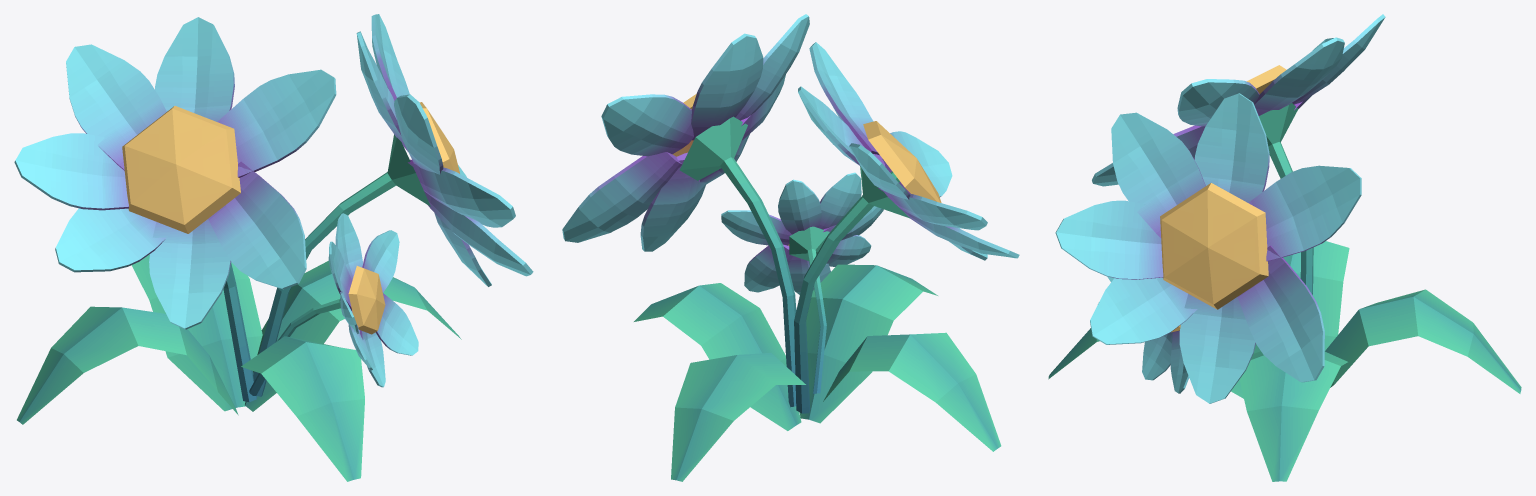
The model's file is blue_three_flower_1.gltf.
3 views of the same model, side by side, from view 1: azimuth 30°, elevation 25°; view 2: azimuth 150°, elevation 25°; view 3: azimuth 270°, elevation 25° (orthographic). The views are drawn at different scales.
Parts seen in each view (by area): view 1: Object_20; view 2: Object_20; view 3: Object_20.
Boxes of the visible parts, x1,y1,x2,y2 form: Object_20: (14,14,533,481); Object_20: (562,14,1019,481); Object_20: (1048,14,1521,481).
Bounding box in the file's own units: 2.29 × 1.82 × 2.15.
Materials: 1 (1 with a texture image).
